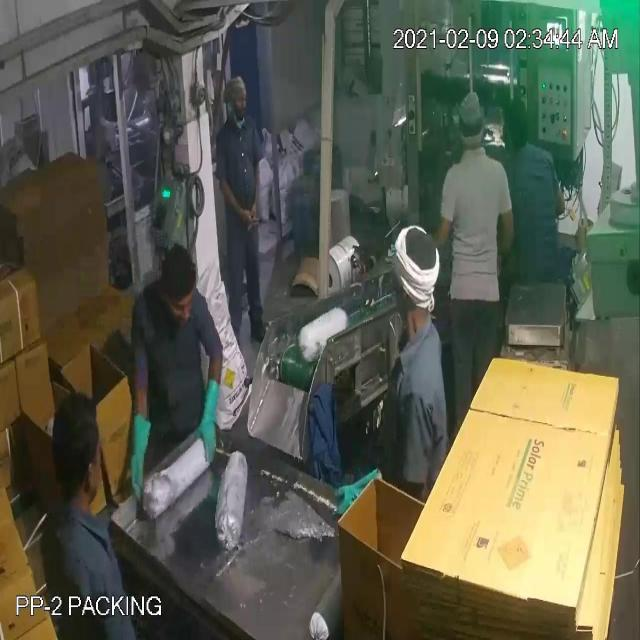Gloves: (46, 66, 234, 455)
